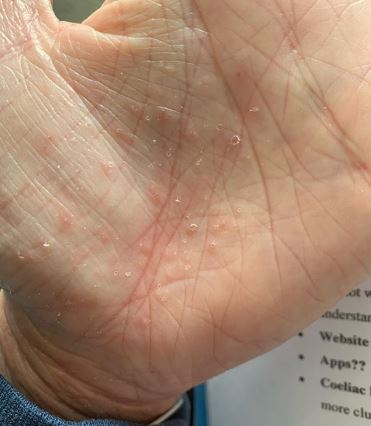Diseased: (29, 16, 342, 337)
